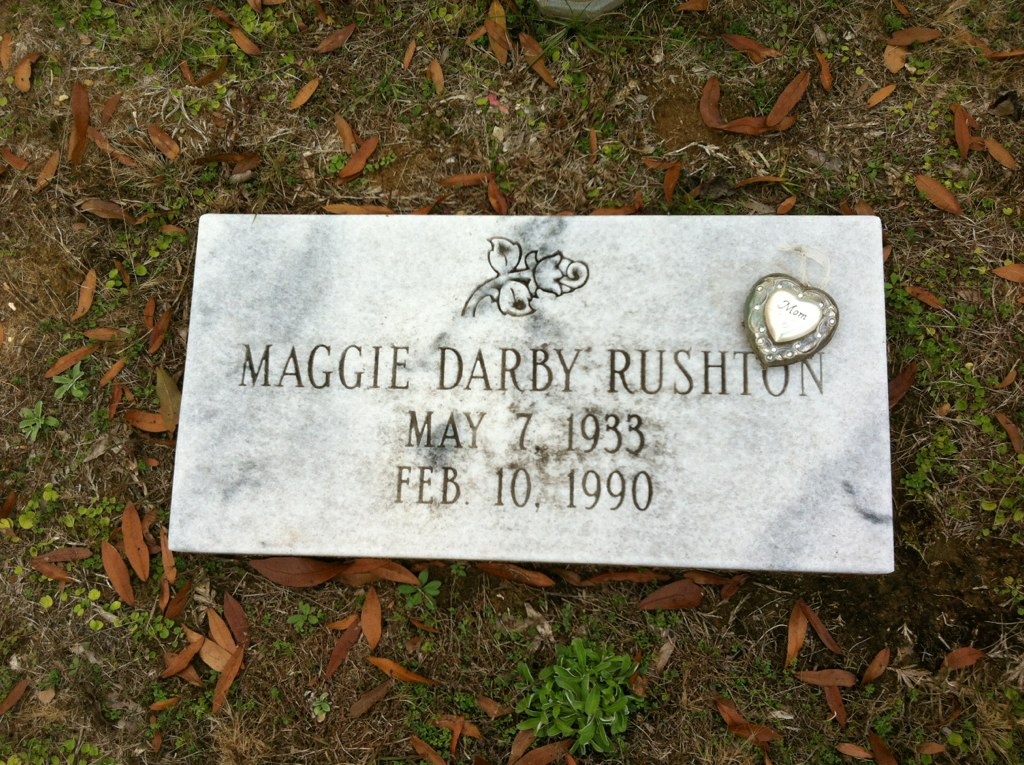flat: (167, 210, 895, 574)
